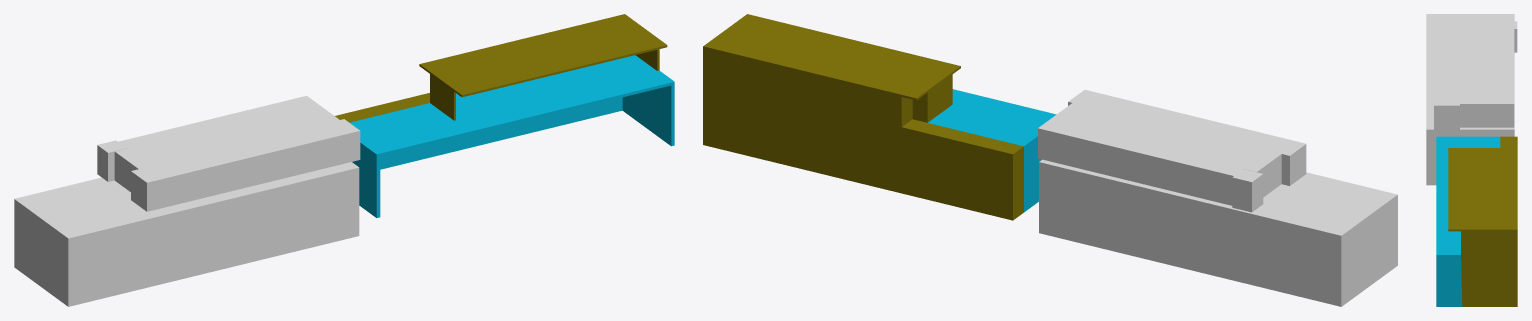
File: Mesa recepcion.fbx
The picture shows the model from 3 angles, left to right: view 1: azimuth 30°, elevation 25°; view 2: azimuth 150°, elevation 25°; view 3: azimuth 270°, elevation 25°; orthographic projection. The views are drawn at different scales.
Parts seen in each view (by area): view 1: Cube.001, Cube.007, Cube.002, Cube.003; view 2: Cube.007, Cube.001, Cube.002, Cube.003; view 3: Cube.007, Cube.002, Cube.001, Cube.003.
Boxes of the visible parts, box(x1,y1,x2,y2) form: Cube.001: box(14, 162, 359, 306); Cube.007: box(335, 14, 674, 217); Cube.002: box(114, 95, 360, 211); Cube.003: box(97, 140, 126, 181); Cube.007: box(703, 14, 1056, 220); Cube.001: box(1039, 159, 1397, 306); Cube.002: box(1038, 90, 1306, 205); Cube.003: box(1232, 169, 1263, 212); Cube.007: box(1436, 136, 1517, 306); Cube.002: box(1434, 21, 1514, 129); Cube.001: box(1426, 14, 1514, 185); Cube.003: box(1499, 21, 1517, 52).
Bounding box in the file's own units: 578 × 92.58 × 91.5.
